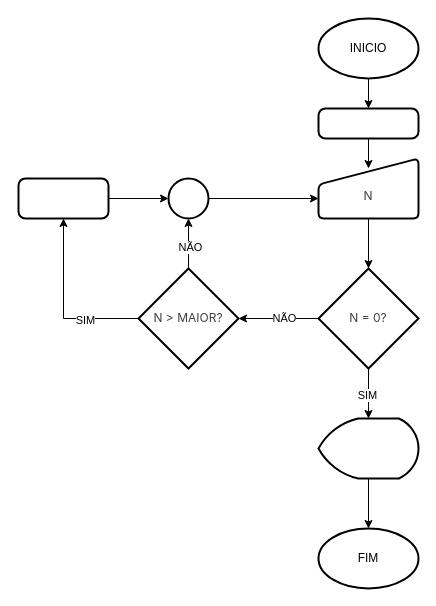
The diagram is 436 pixels wide and 606 high, and some of its shapes have lost their labels. The shapes that lost their labels are listed below. From the top down, each one's box as (x1, y1, x2, y2) in pixels, then its label:
(317, 107, 419, 139): MAIOR = -9999
(17, 177, 109, 219): MAIOR = N
(317, 417, 419, 479): MAIOR
